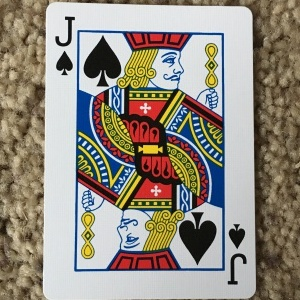card: (43, 1, 257, 299)
